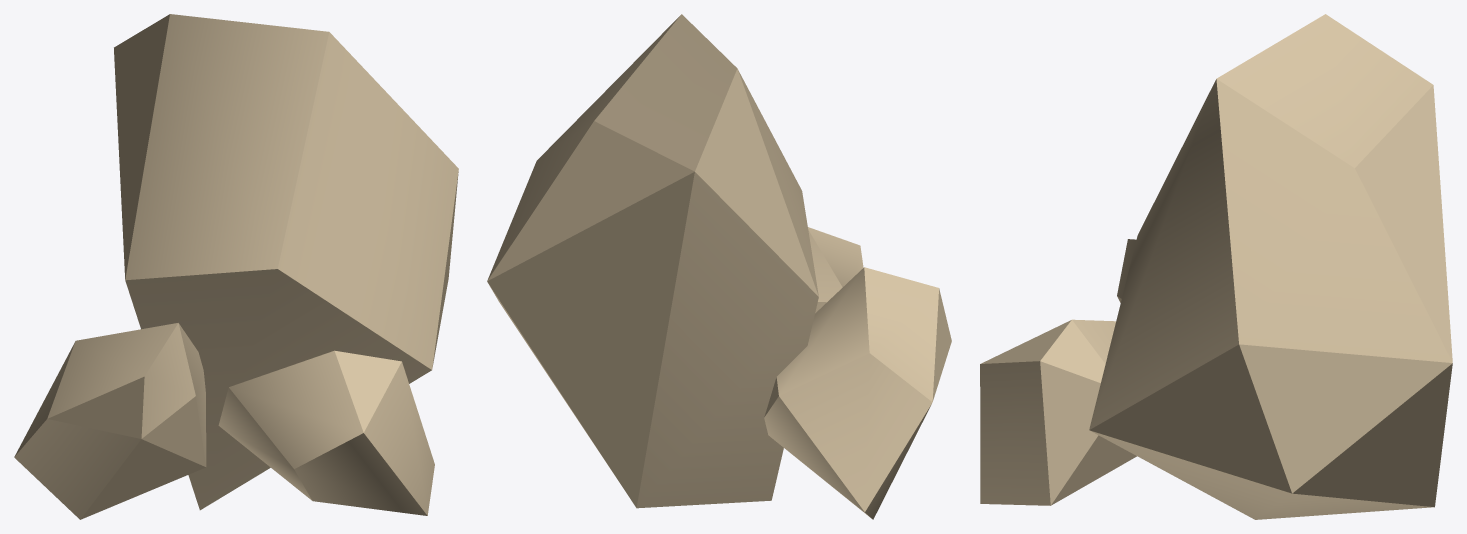
File: Piedra3.fbx
3 views of the same model, side by side, from view 1: azimuth 30°, elevation 25°; view 2: azimuth 150°, elevation 25°; view 3: azimuth 270°, elevation 25° (orthographic). The views are drawn at different scales.
Visible parts, largest first — view 1: polySurface2; view 2: polySurface2; view 3: polySurface2.
Part boxes in pixels (box(x1,y1,x2,y2)): polySurface2: box(14, 14, 458, 519); polySurface2: box(487, 14, 951, 519); polySurface2: box(980, 14, 1452, 519).
Bounding box in the file's own units: 2.03 × 2.15 × 1.82.
